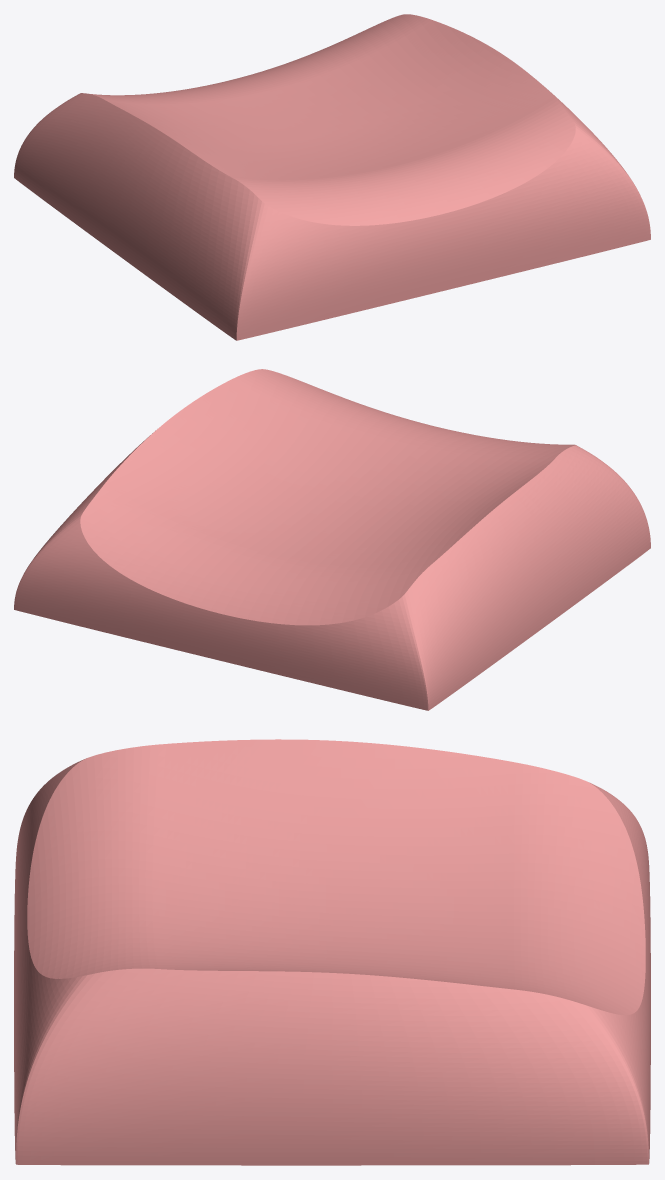
Rendered from Chicago-R3-1u.gltf.
The picture shows the model from 3 angles, top to bottom: view 1: azimuth 30°, elevation 25°; view 2: azimuth 150°, elevation 25°; view 3: azimuth 270°, elevation 25°; orthographic projection. The views are drawn at different scales.
Parts seen in each view (by area): view 1: object 1; view 2: object 1; view 3: object 1.
Boxes of the visible parts, bbox=[...] form: object 1: bbox=[14, 14, 650, 340]; object 1: bbox=[14, 369, 650, 710]; object 1: bbox=[14, 739, 650, 1165].
Bounding box in the file's own units: 1.73 × 0.6217 × 1.61.
